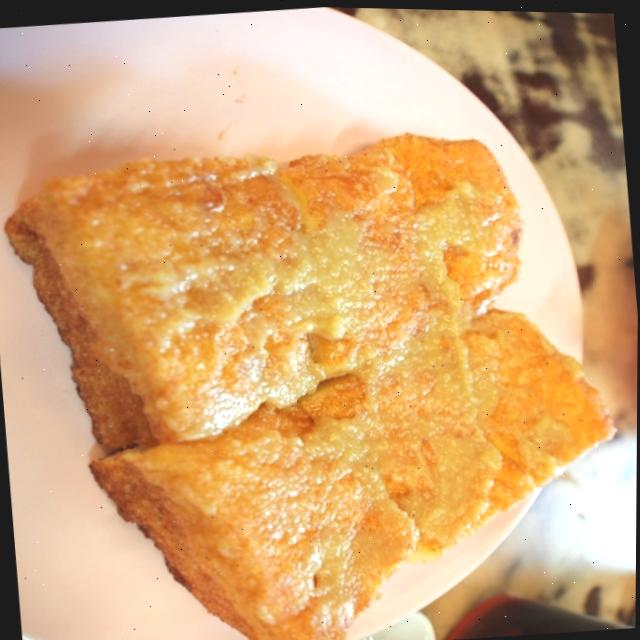面包点心: (20, 80, 597, 625)
